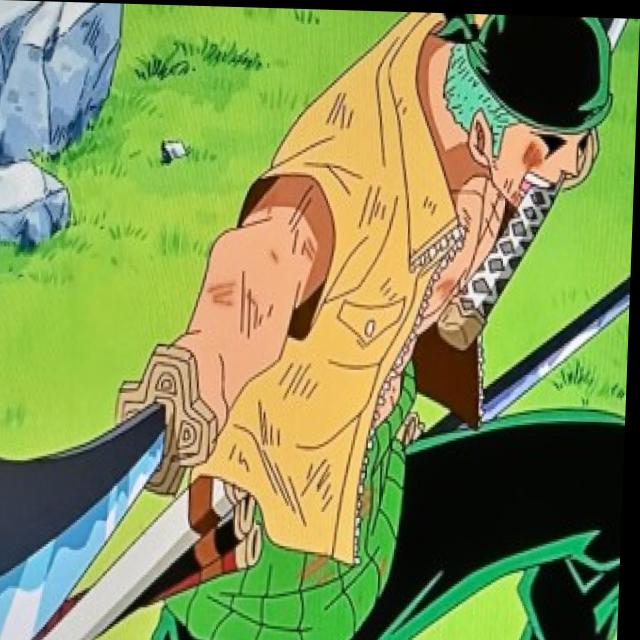Zoro: (418, 10, 616, 230)
